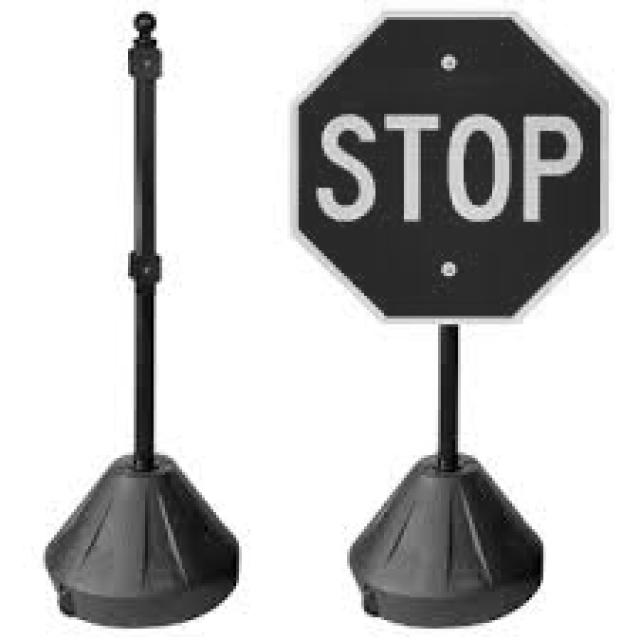stop sign: (298, 17, 604, 330)
